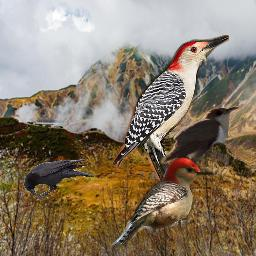Crow: (24, 159, 96, 201)
Cuckoo: (158, 105, 239, 202)
Woodpecker: (111, 35, 229, 203), (110, 155, 217, 248)
